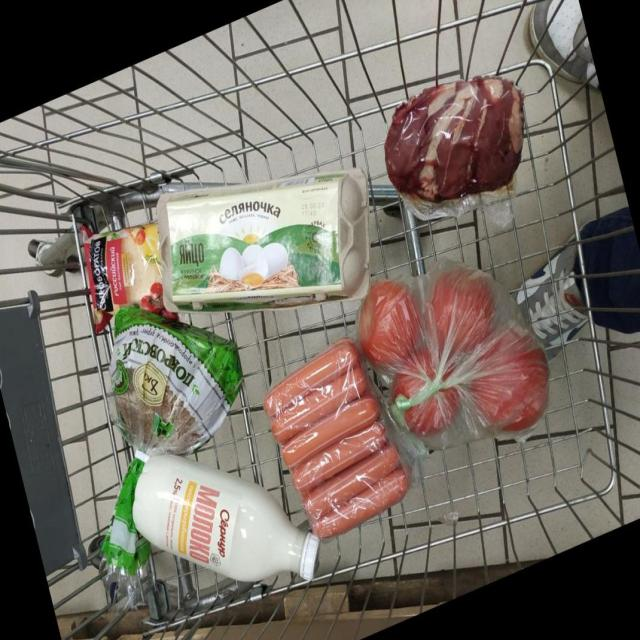Bread: (102, 305, 242, 601)
Cheese: (83, 222, 164, 331)
Eggs: (157, 168, 369, 311)
Meat: (385, 76, 524, 227)
Milk: (132, 454, 317, 581)
Sausages: (263, 337, 410, 538)
Tomatoes: (467, 328, 549, 432), (428, 262, 495, 356), (358, 280, 422, 374), (403, 386, 459, 436), (391, 346, 435, 400)
